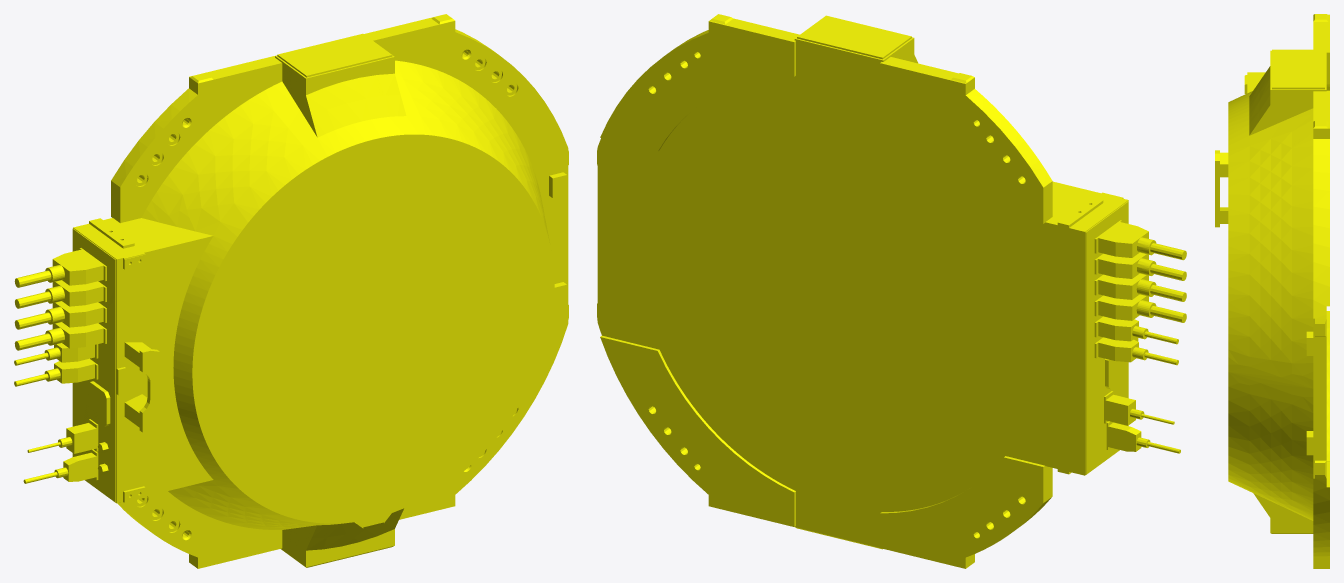
3 views of the same model, side by side, from view 1: azimuth 30°, elevation 25°; view 2: azimuth 150°, elevation 25°; view 3: azimuth 270°, elevation 25° (orthographic). The views are drawn at different scales.
Visible parts, largest first — view 1: node; view 2: node; view 3: node.
Part boxes in pixels (x1,y1,x2,y2): node: (14,14,568,568); node: (597,14,1186,568); node: (1215,14,1329,568).
Bounding box in the file's own units: 1785 × 1480 × 345.
